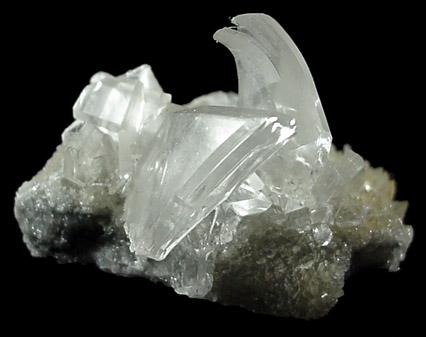gypsum: (15, 14, 369, 298)
